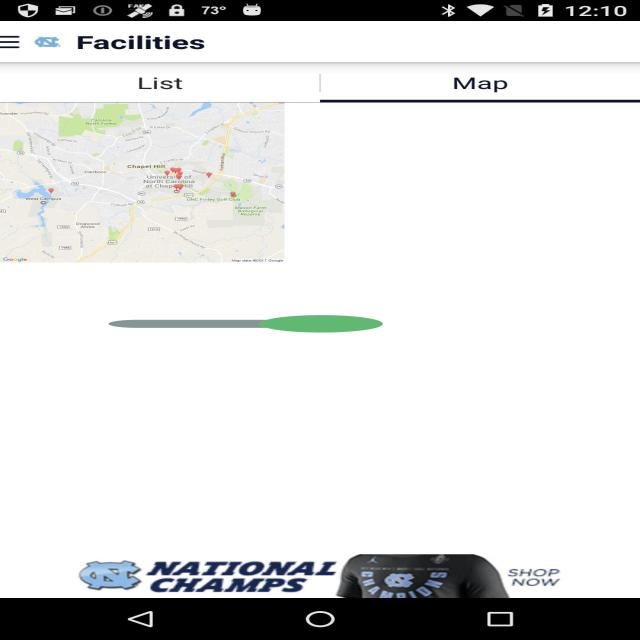social proof: (108, 304, 383, 344)
